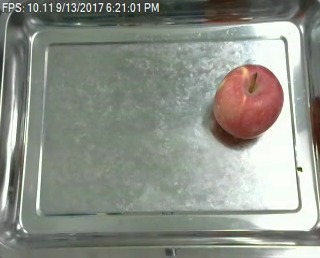Apple: (207, 62, 288, 140)
